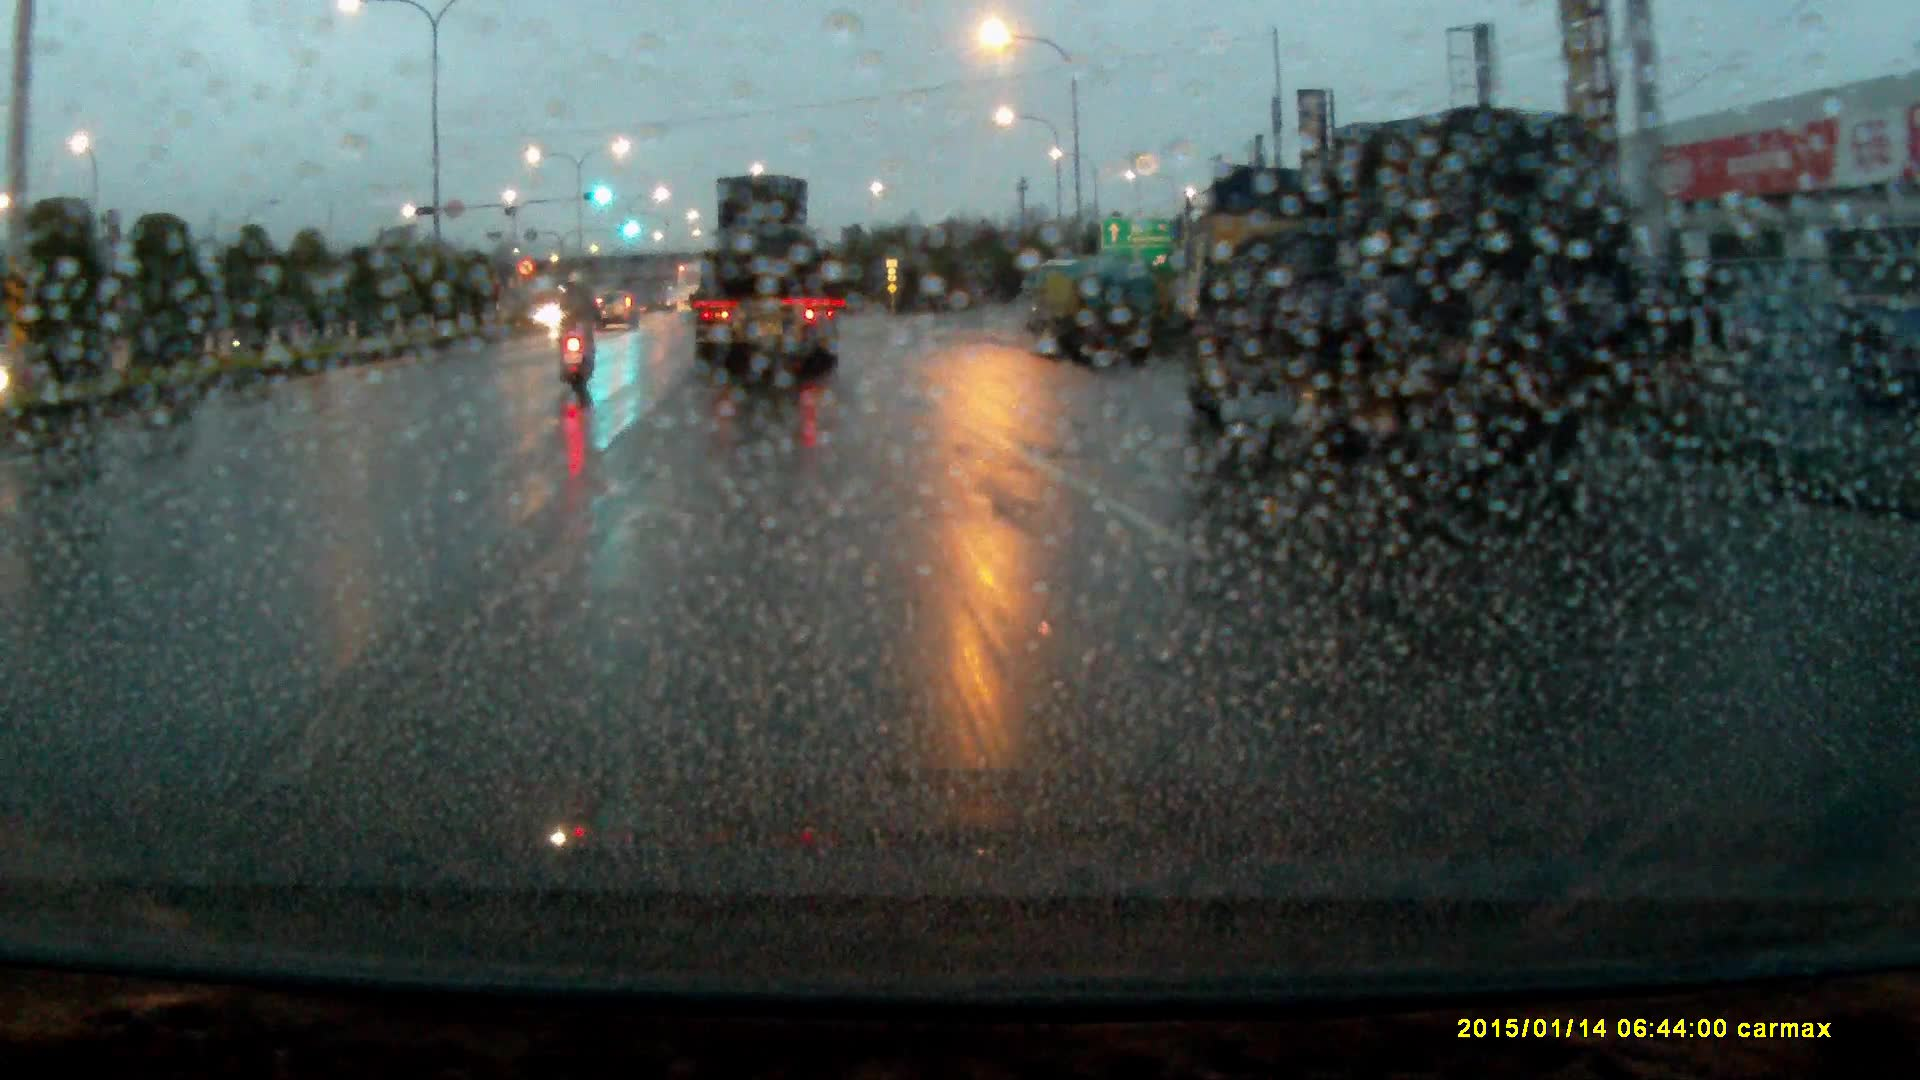rider: (552, 272, 604, 402)
vehicle: (1189, 112, 1688, 494), (686, 172, 844, 383), (1018, 263, 1162, 362), (598, 290, 642, 334), (676, 263, 703, 316)
